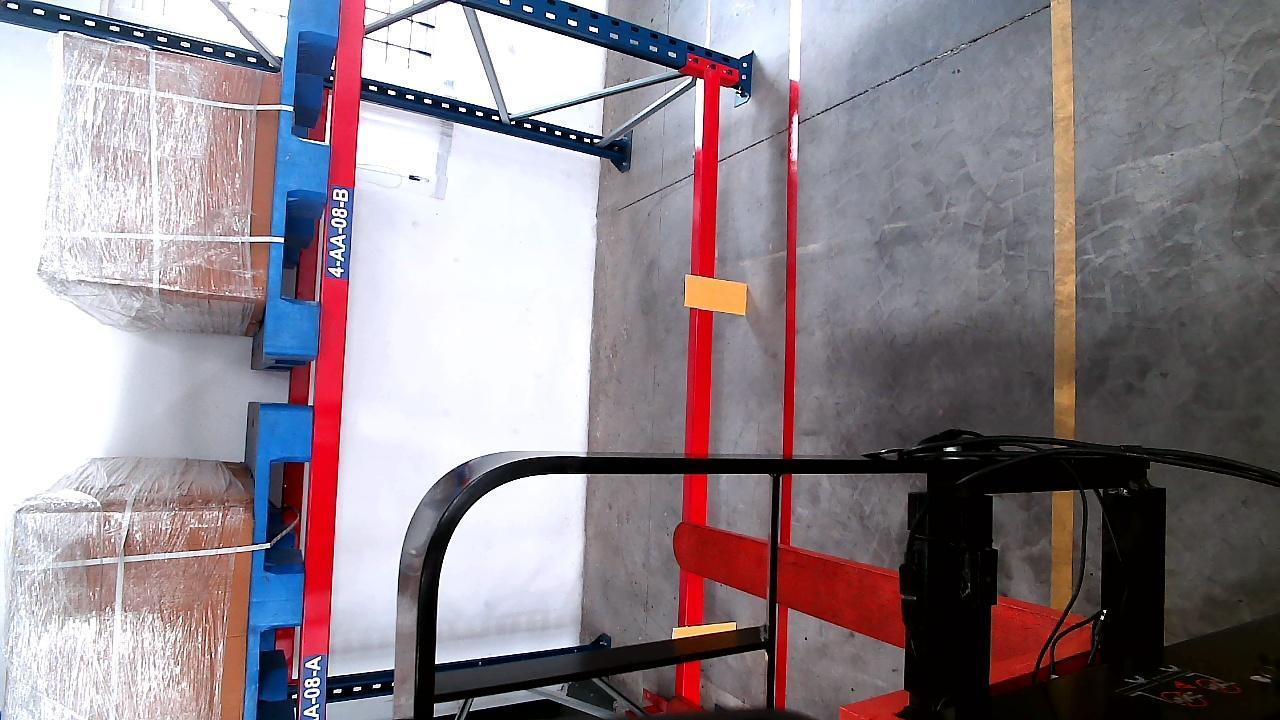h_rack: (299, 0, 366, 720), (680, 66, 723, 704)
orange_strip: (688, 276, 748, 312)
red_line: (779, 15, 805, 713)
small_pallet: (245, 413, 313, 716)
yellow_line: (1050, 0, 1078, 603)
